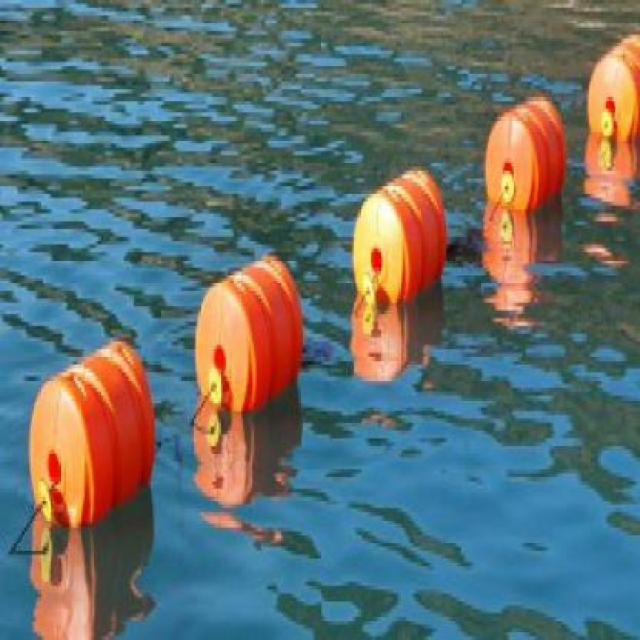a: (16, 300, 167, 549), (183, 238, 317, 439), (347, 156, 463, 354), (480, 90, 585, 238), (584, 20, 640, 156)
